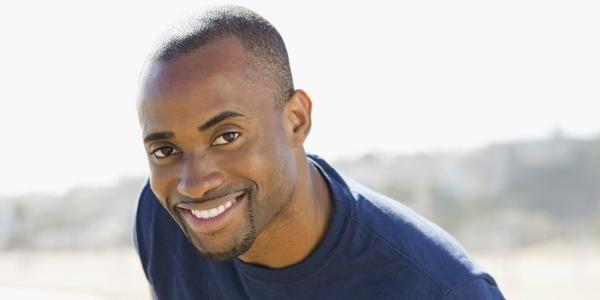Sober: (136, 83, 285, 240)
